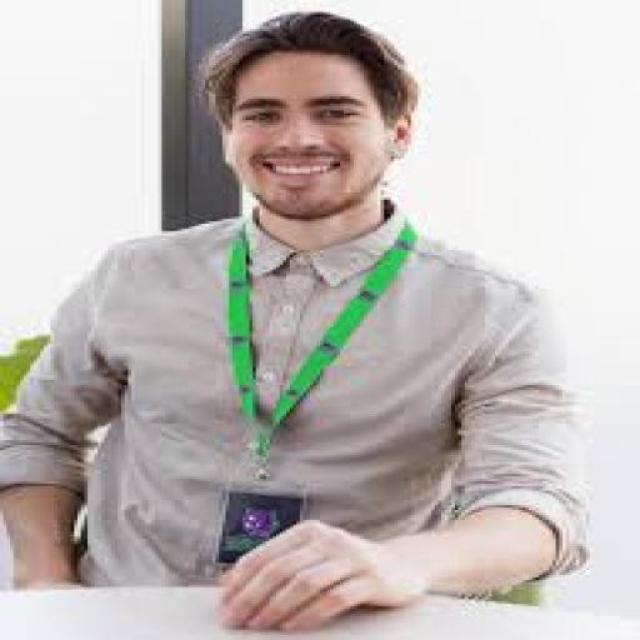id_card: (215, 218, 375, 568)
